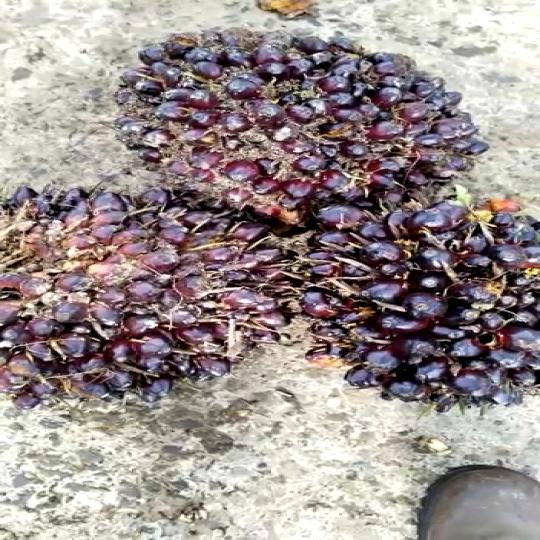kurang masak: (103, 21, 492, 240), (0, 182, 322, 423), (283, 182, 540, 432)
